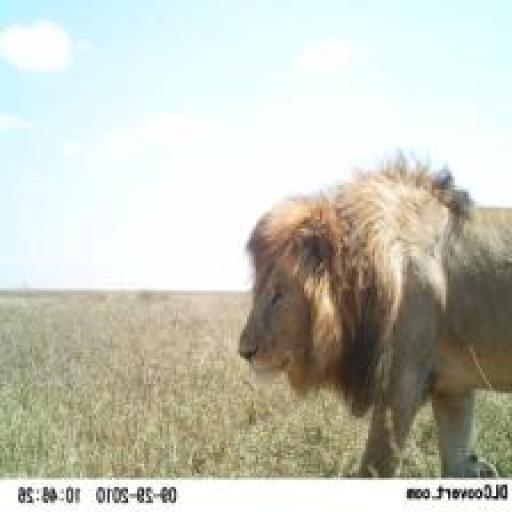lion: (226, 146, 508, 477)
